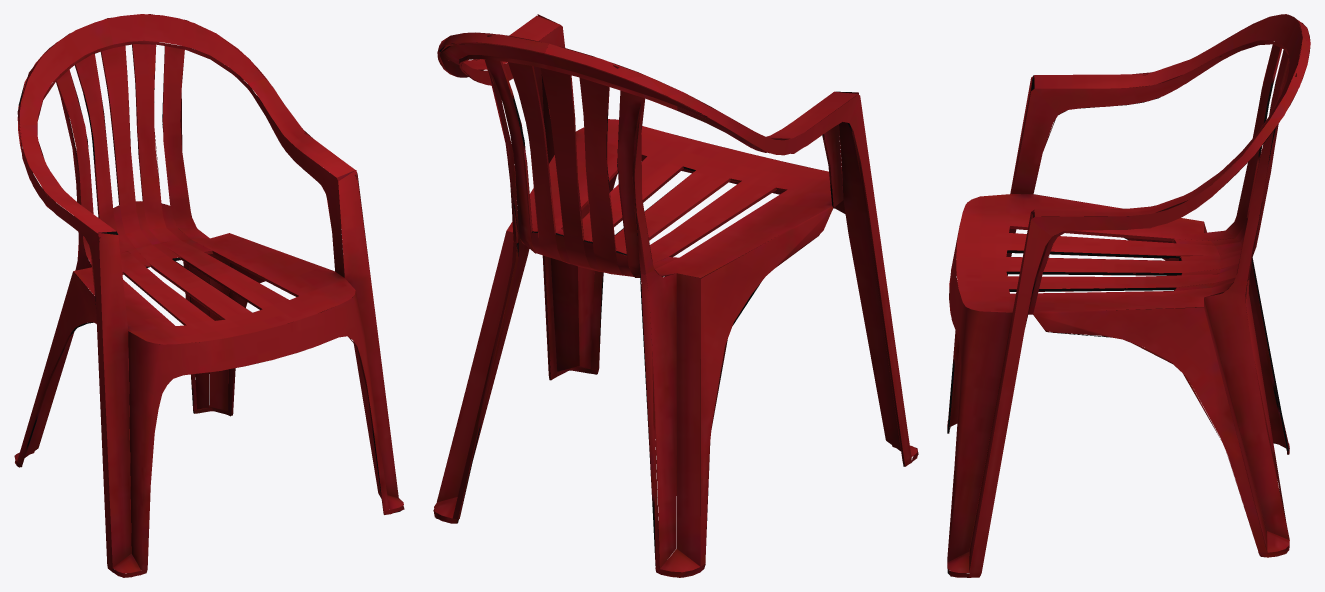
Rendered from plastic_chair.glb.
The picture shows the model from 3 angles, left to right: view 1: azimuth 30°, elevation 25°; view 2: azimuth 150°, elevation 25°; view 3: azimuth 270°, elevation 25°; orthographic projection. The views are drawn at different scales.
Parts seen in each view (by area): view 1: plastic_chair; view 2: plastic_chair; view 3: plastic_chair.
Boxes of the visible parts, box(x1,y1,x2,y2) form: plastic_chair: box(14, 14, 404, 577); plastic_chair: box(433, 14, 918, 577); plastic_chair: box(947, 14, 1310, 577).
Size of the model in its own units: 0.6455 by 0.8806 by 0.6282.
Materials: 1 (1 with a texture image).
